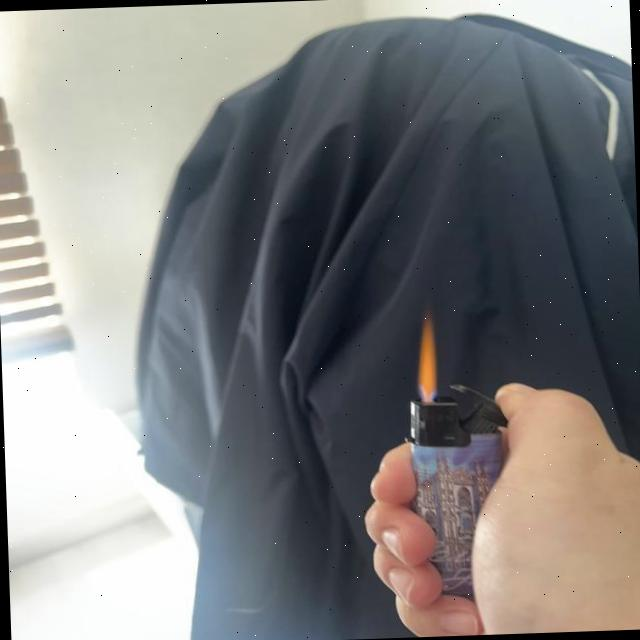fire: (413, 313, 442, 399)
